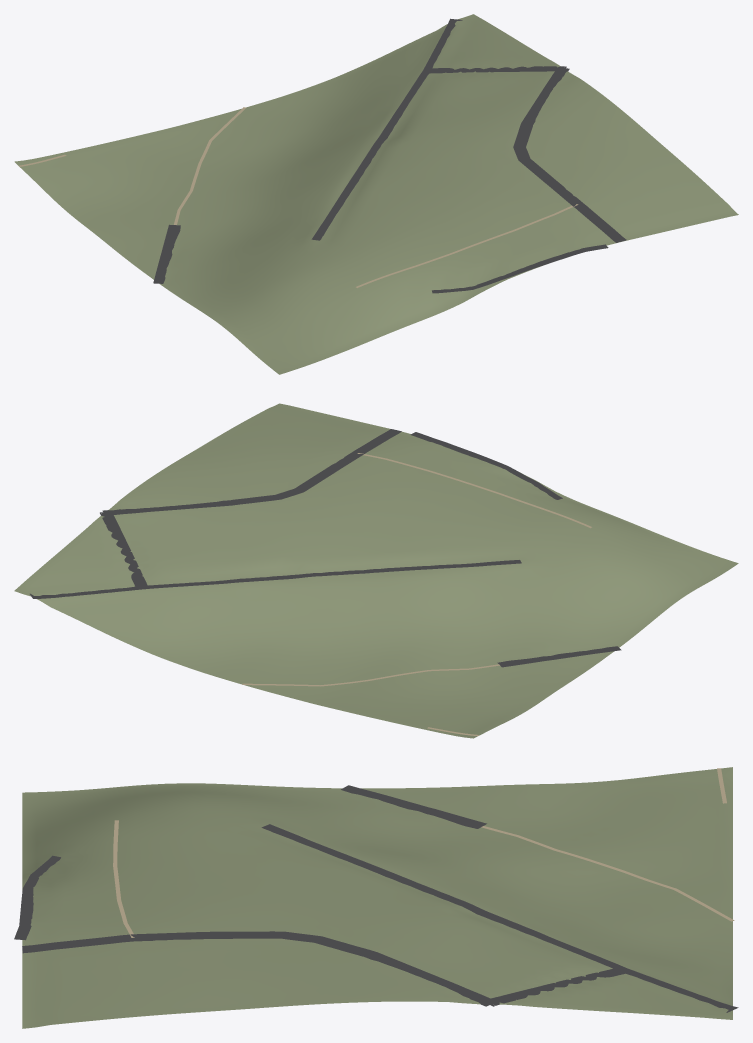
3 views of the same model, one above another, from view 1: azimuth 30°, elevation 25°; view 2: azimuth 150°, elevation 25°; view 3: azimuth 270°, elevation 25° (orthographic). The views are drawn at different scales.
Parts seen in each view (by area): view 1: ground, road, path; view 2: ground, road, path; view 3: ground, road, path.
Boxes of the visible parts, x1=… form: ground: x1=14, y1=14, x2=738, y2=374; road: x1=153, y1=18, x2=626, y2=293; path: x1=18, y1=107, x2=578, y2=287; ground: x1=14, y1=403, x2=738, y2=738; road: x1=30, y1=429, x2=621, y2=667; path: x1=242, y1=453, x2=591, y2=736; ground: x1=22, y1=767, x2=732, y2=1028; road: x1=14, y1=785, x2=738, y2=1012; path: x1=113, y1=768, x2=734, y2=937.
Size of the model in its own units: 255 by 35.46 by 255.
